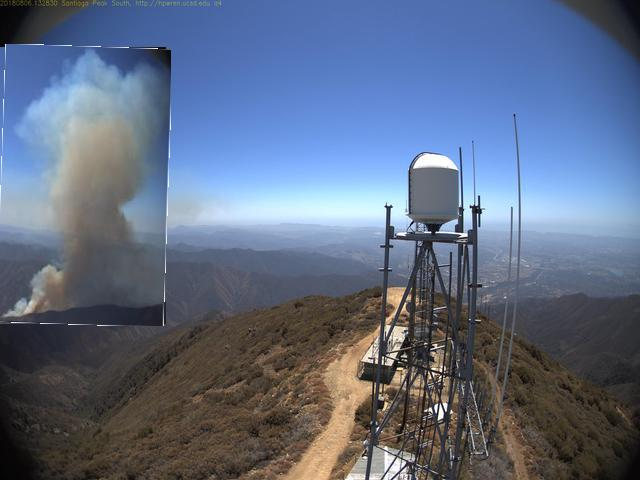smoke: (1, 46, 171, 328)
